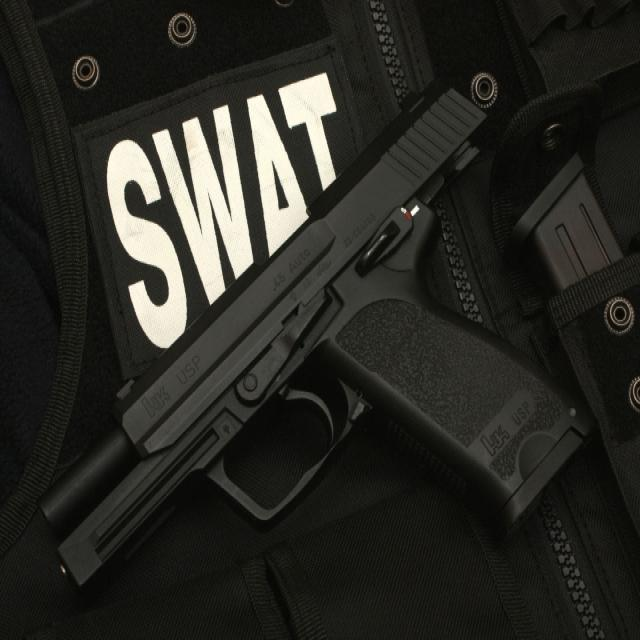HandGun: (39, 73, 583, 588)
